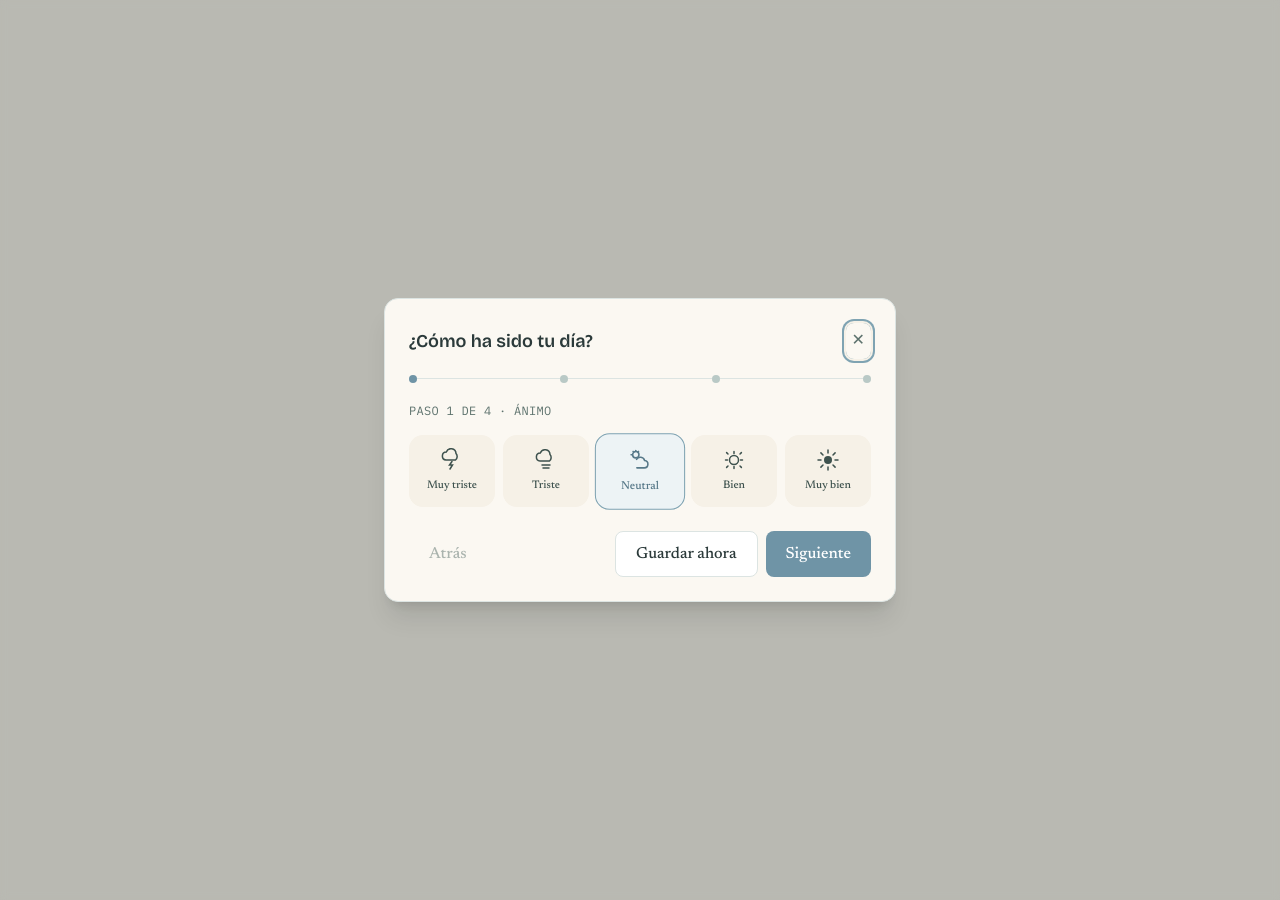
DailyLogModal › advances through all 4 steps via "Siguiente" and shows the sleep step next
The width and height of the screenshot is (1280, 900).
Click the button "Siguiente".
click(818, 554)  # box [766,531,871,577]
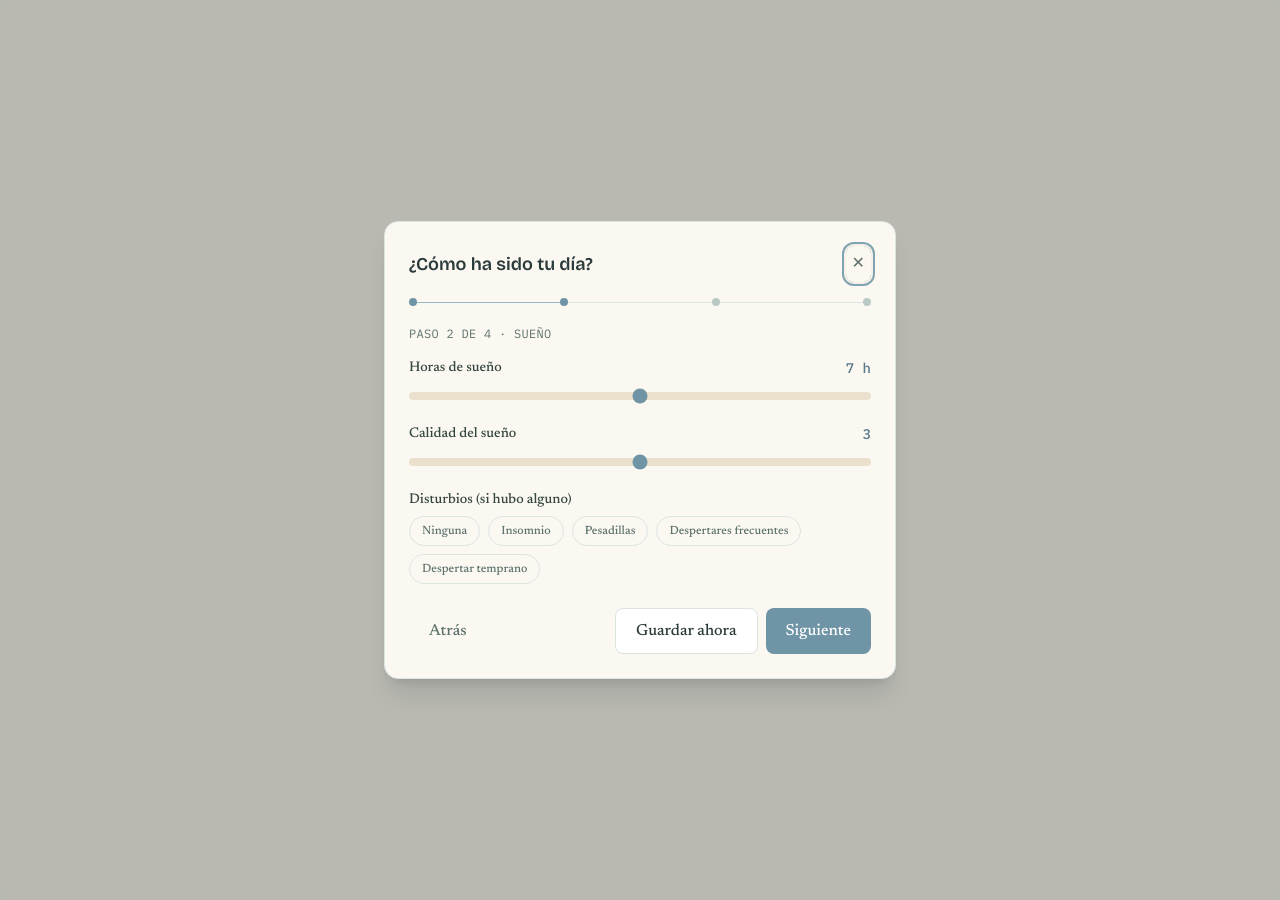
Check: the text "Paso 2 de 4 · Sueño" is shown, box [409,326,552,341]
Check: the text "Horas de sueño" is shown, box [409,358,502,378]
